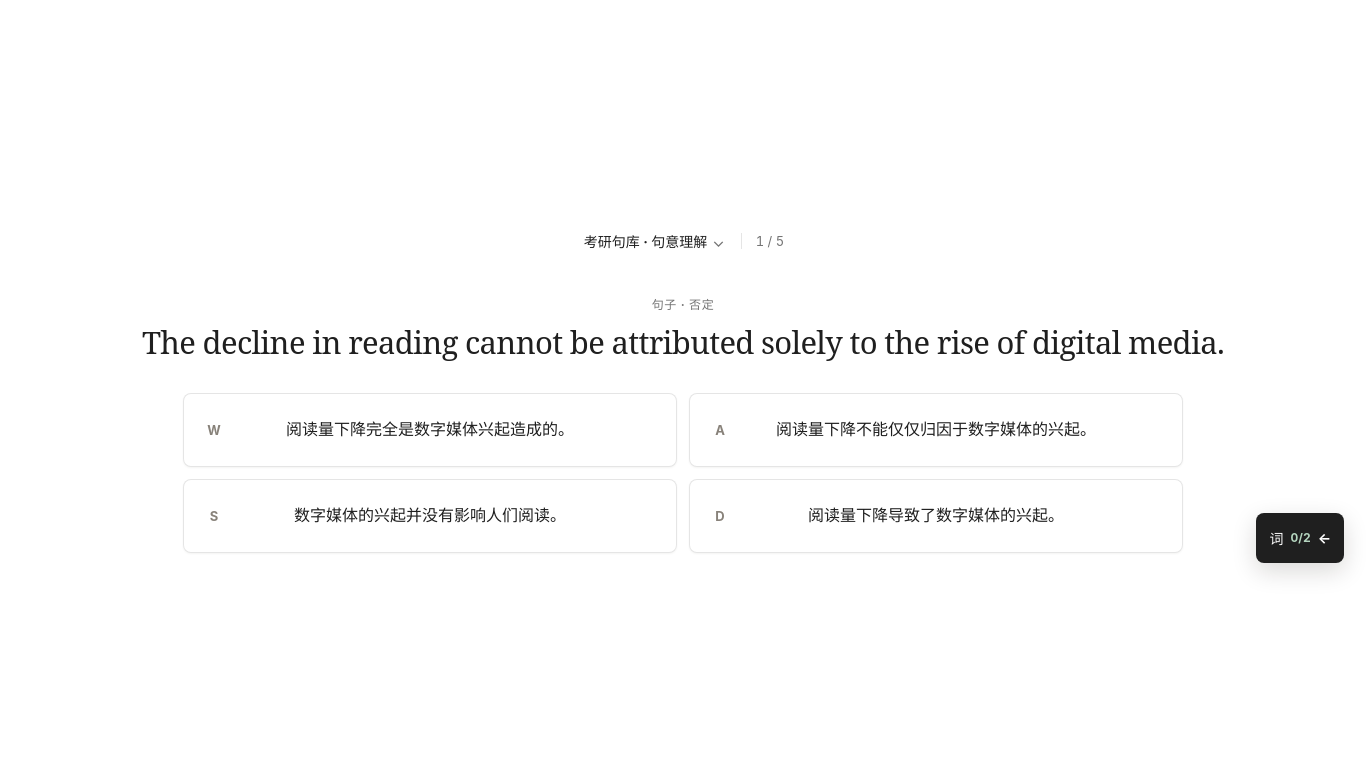
Test: training flow › switches to a vocabulary book and presents word meaning questions
This screenshot has width=1366, height=768.
Click the button with aria-label "选择词库和类型".
click(654, 241)  # box [582, 221, 727, 261]
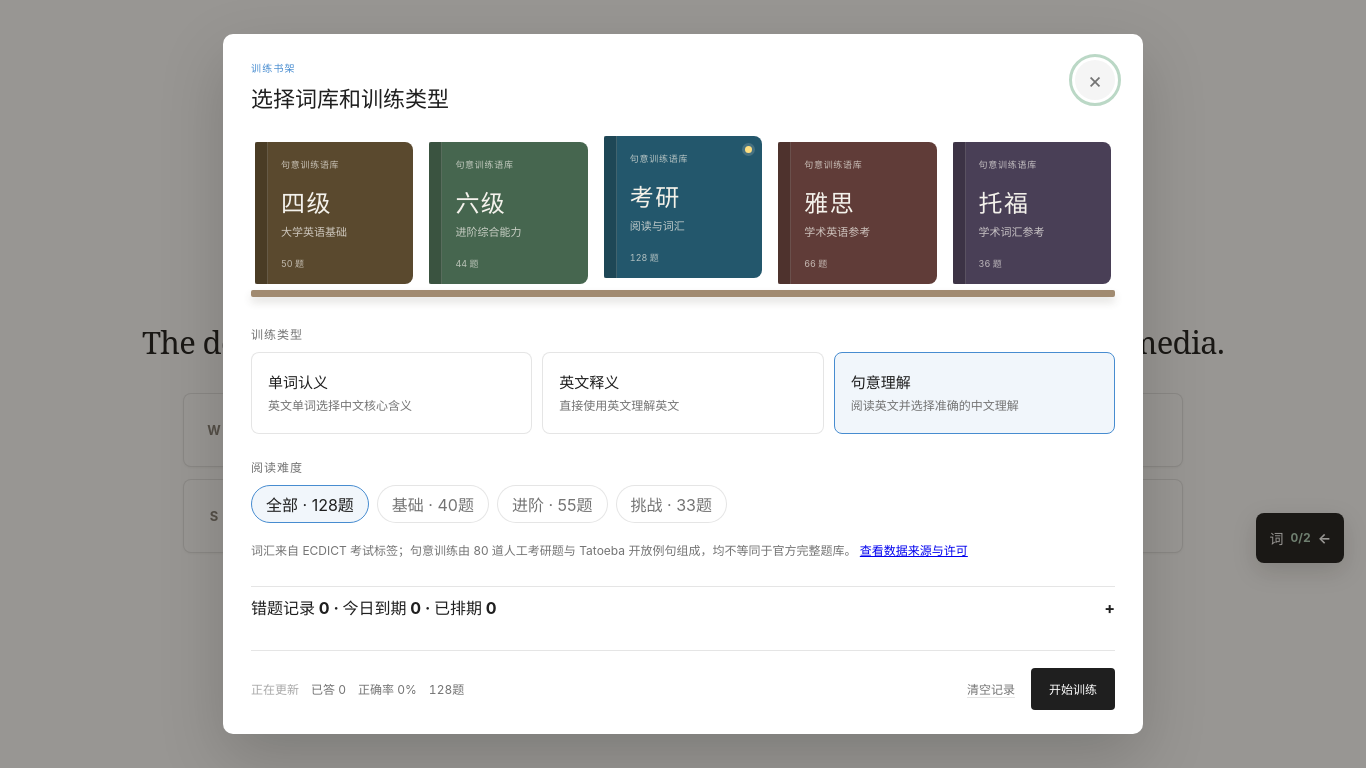
Click the radio button with aria-label "四级句库，".
click(334, 213)  # box [255, 142, 413, 284]
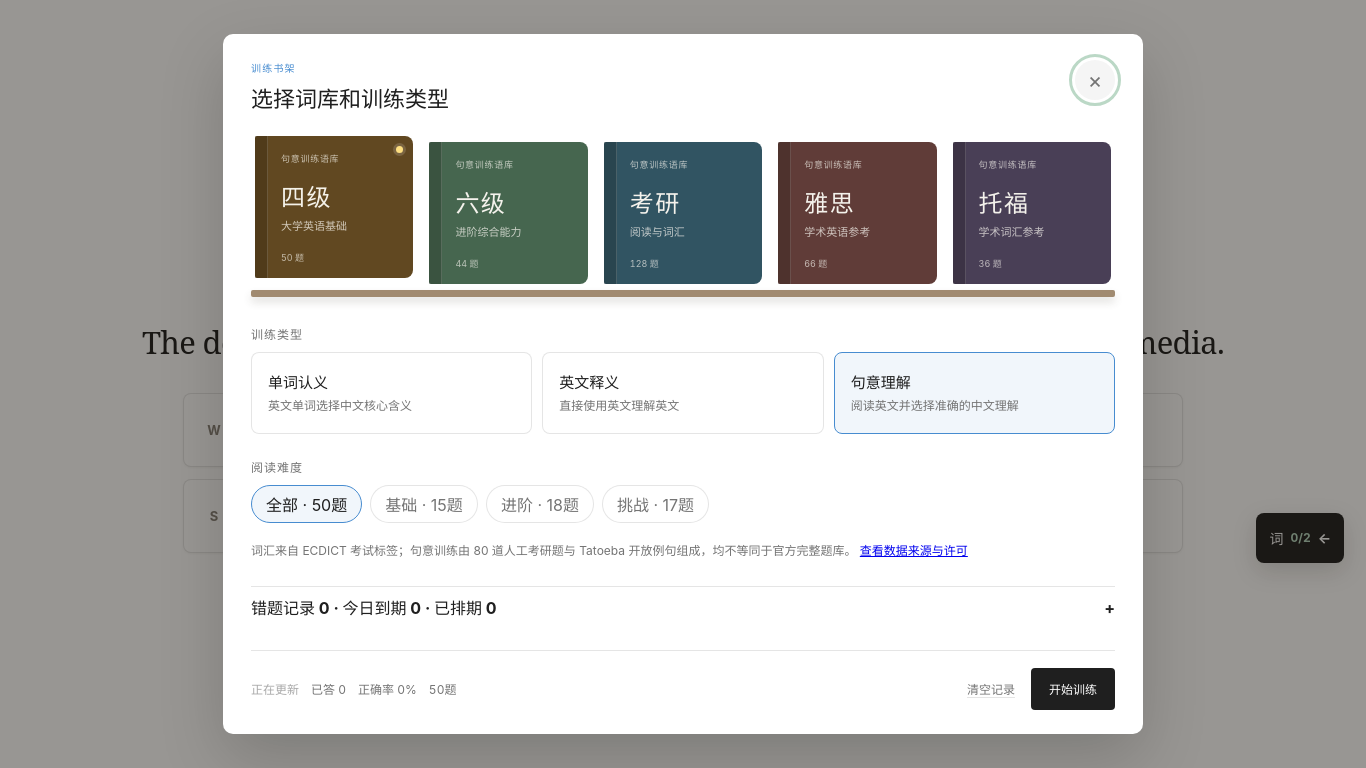
Click the radio button labelled "单词认义".
click(298, 383)  # box [251, 352, 532, 434]
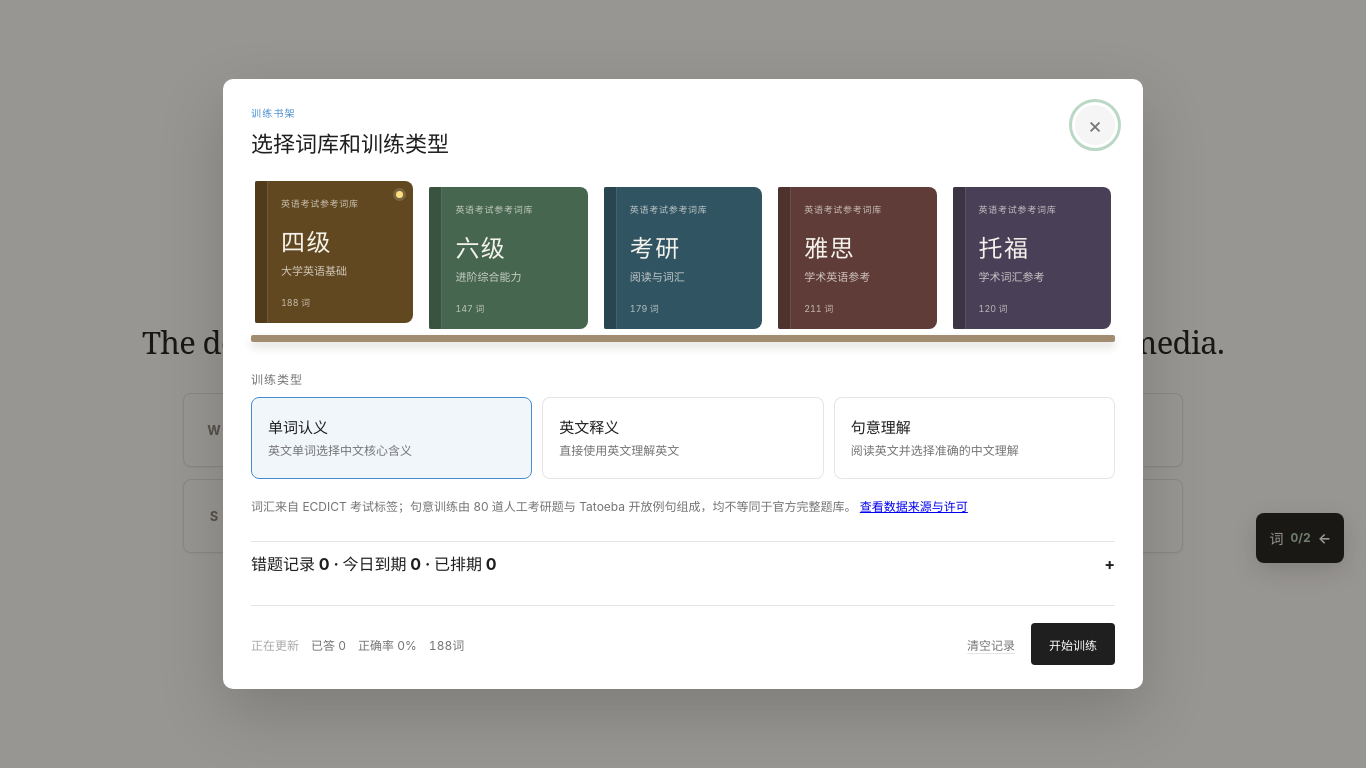
Click the button "开始训练".
click(1073, 644)  # box [1031, 623, 1115, 665]
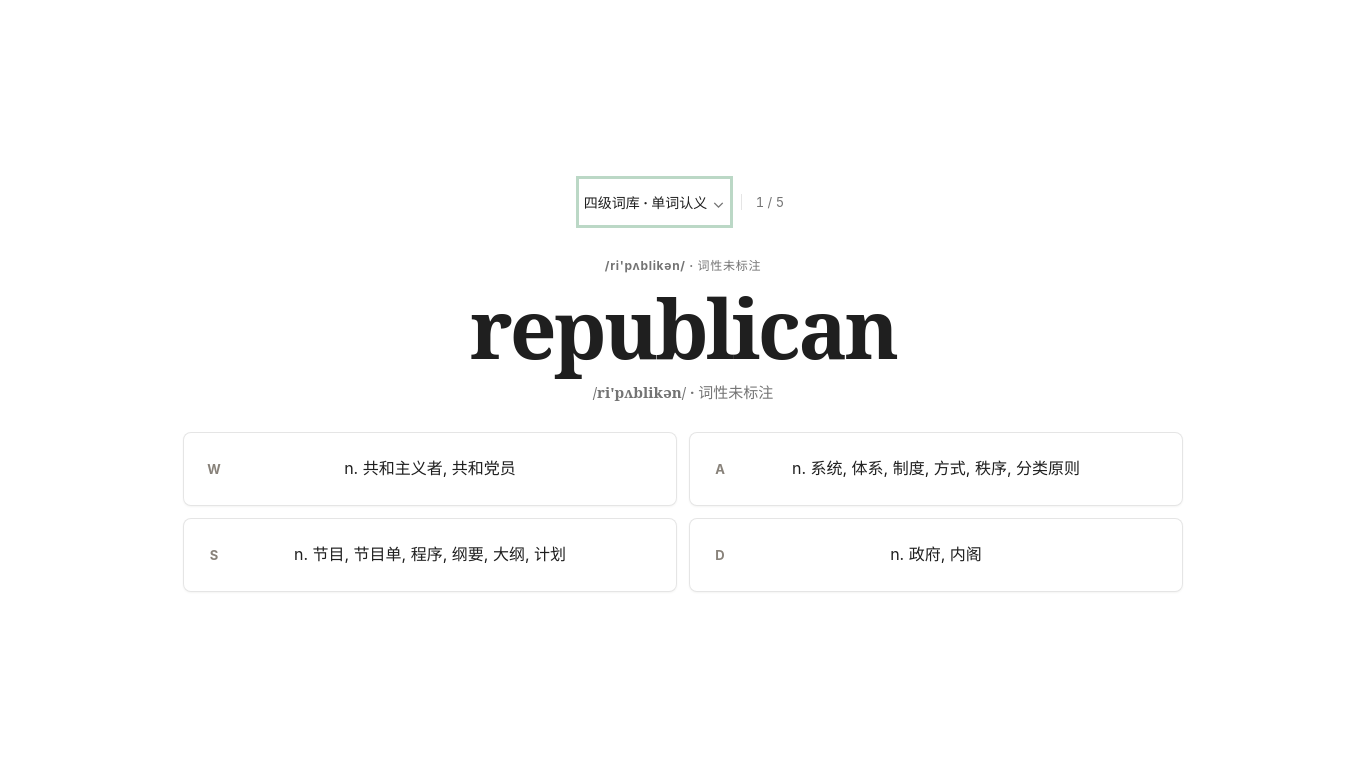
Check: the text "1 / 5" is shown, box [741, 194, 784, 210]
Check: the button with aria-label "当前训练：四级词库 · 单词认义" is shown, box [582, 182, 727, 222]
Check: the text "republican" is shown, box [470, 271, 896, 383]
